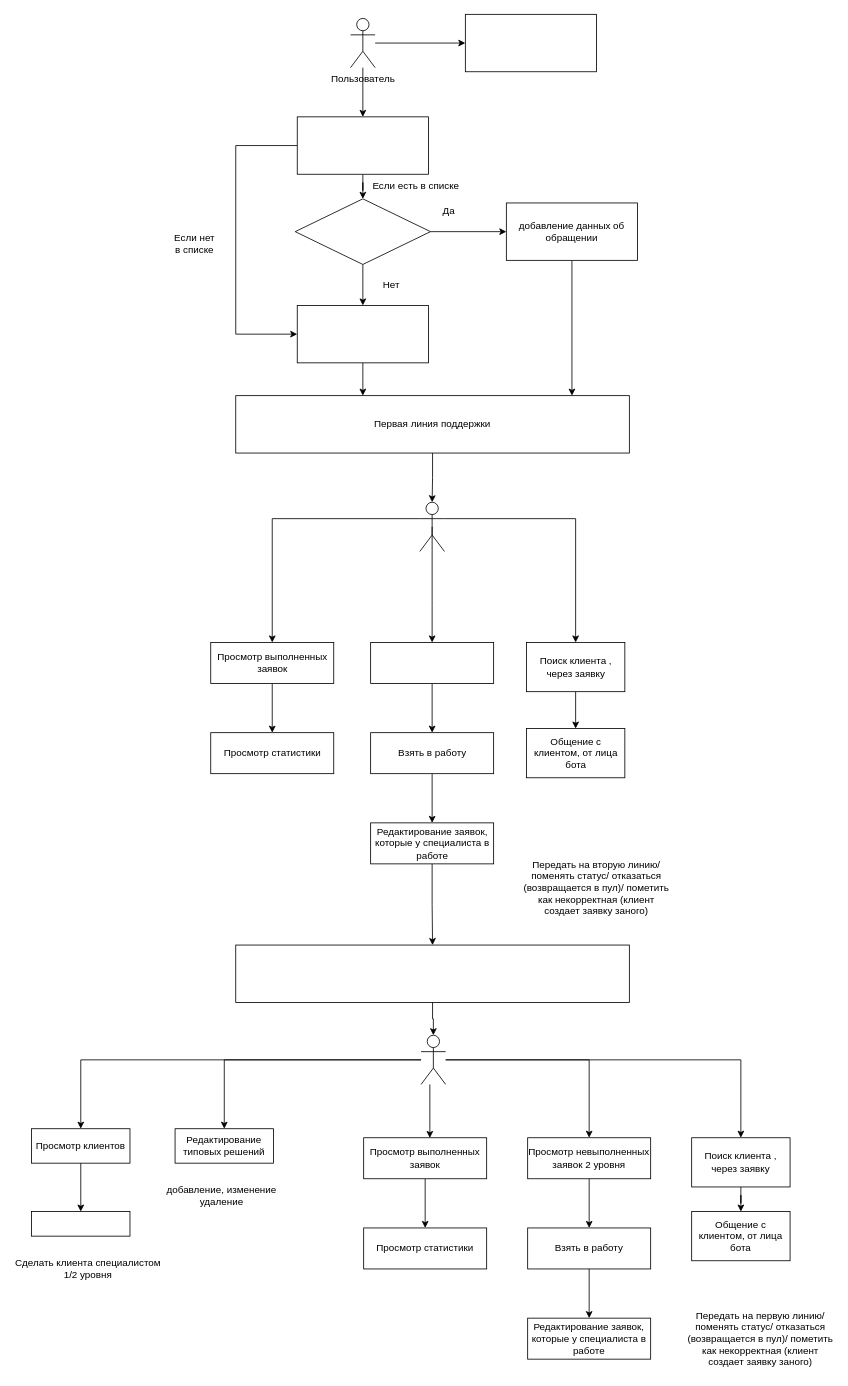
The diagram is 848 pixels wide and 1386 high, and some of its shapes have lost their labels. Each missing label, with the box of its shape:
Вам помогло?: (294, 198, 430, 264)
Вторая линия поддержки: (235, 944, 629, 1002)
Выбор из списка типовых проблем: (296, 116, 428, 174)
Клиент может ответить на приходящее от специалиста сообщение: (465, 14, 597, 72)
Просмотр невыполненных заявок 1 уровня: (370, 642, 494, 683)
Редактирование клиентов: (31, 1211, 130, 1236)
Создание заявки вручную: (296, 305, 428, 363)
Специалист 1 линии: (419, 501, 444, 551)
Специалист 2 линии: (420, 1034, 446, 1084)
